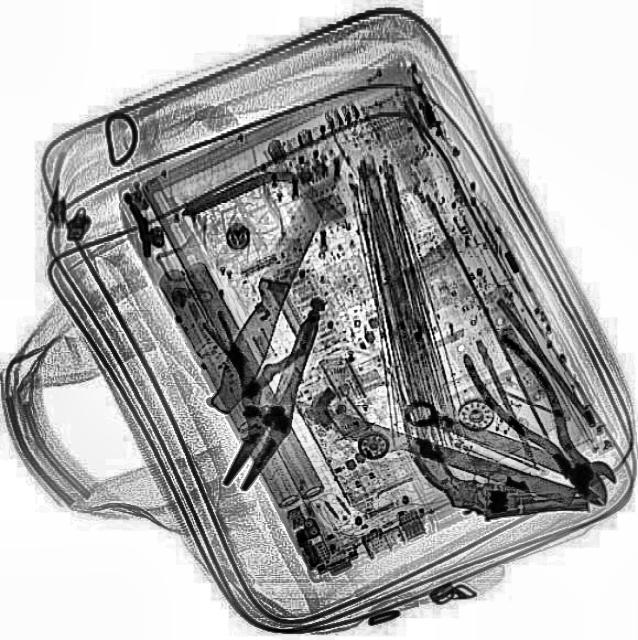Gun: (405, 418, 589, 518)
Knife: (204, 144, 358, 416), (262, 385, 576, 511)
Pliers: (454, 324, 620, 510)
Wrench: (395, 390, 623, 506)
